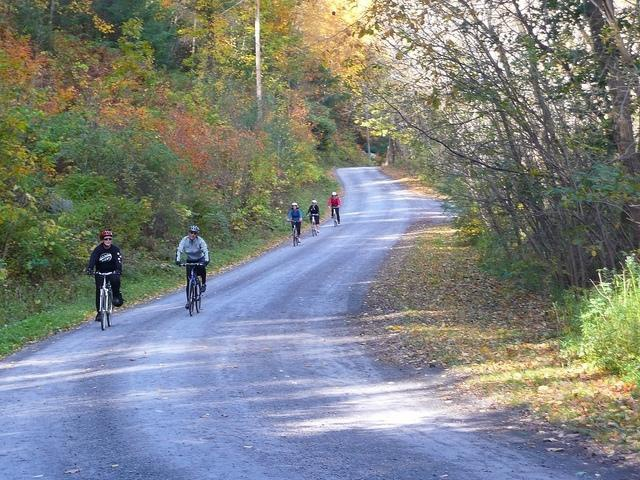non-vehicle: (85, 269, 121, 329), (179, 262, 203, 316), (288, 219, 300, 246), (307, 213, 319, 236), (328, 205, 339, 227)
